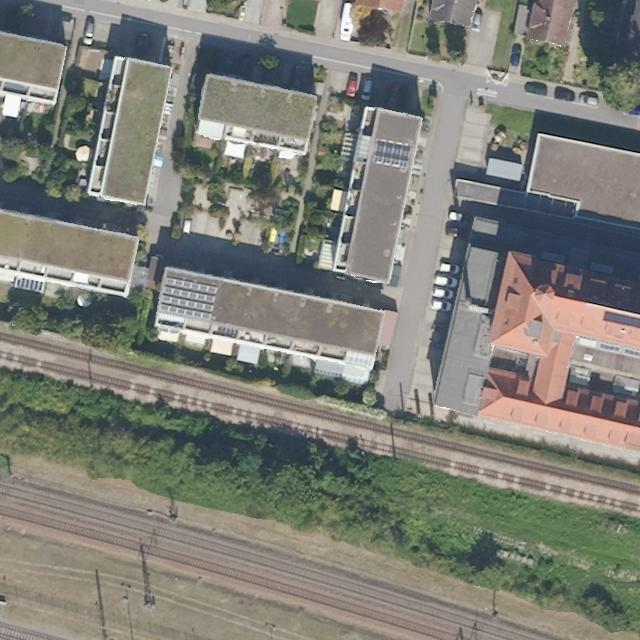PV: (158, 276, 220, 322), (371, 137, 413, 170), (601, 309, 639, 330)
